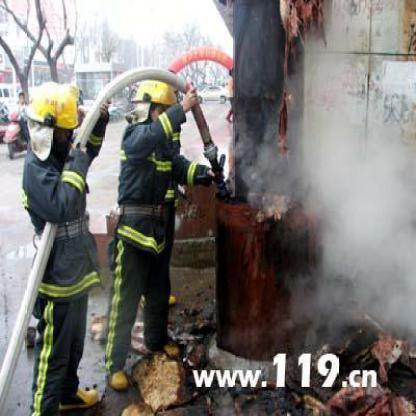smoke: (235, 100, 397, 204), (309, 212, 413, 336)
